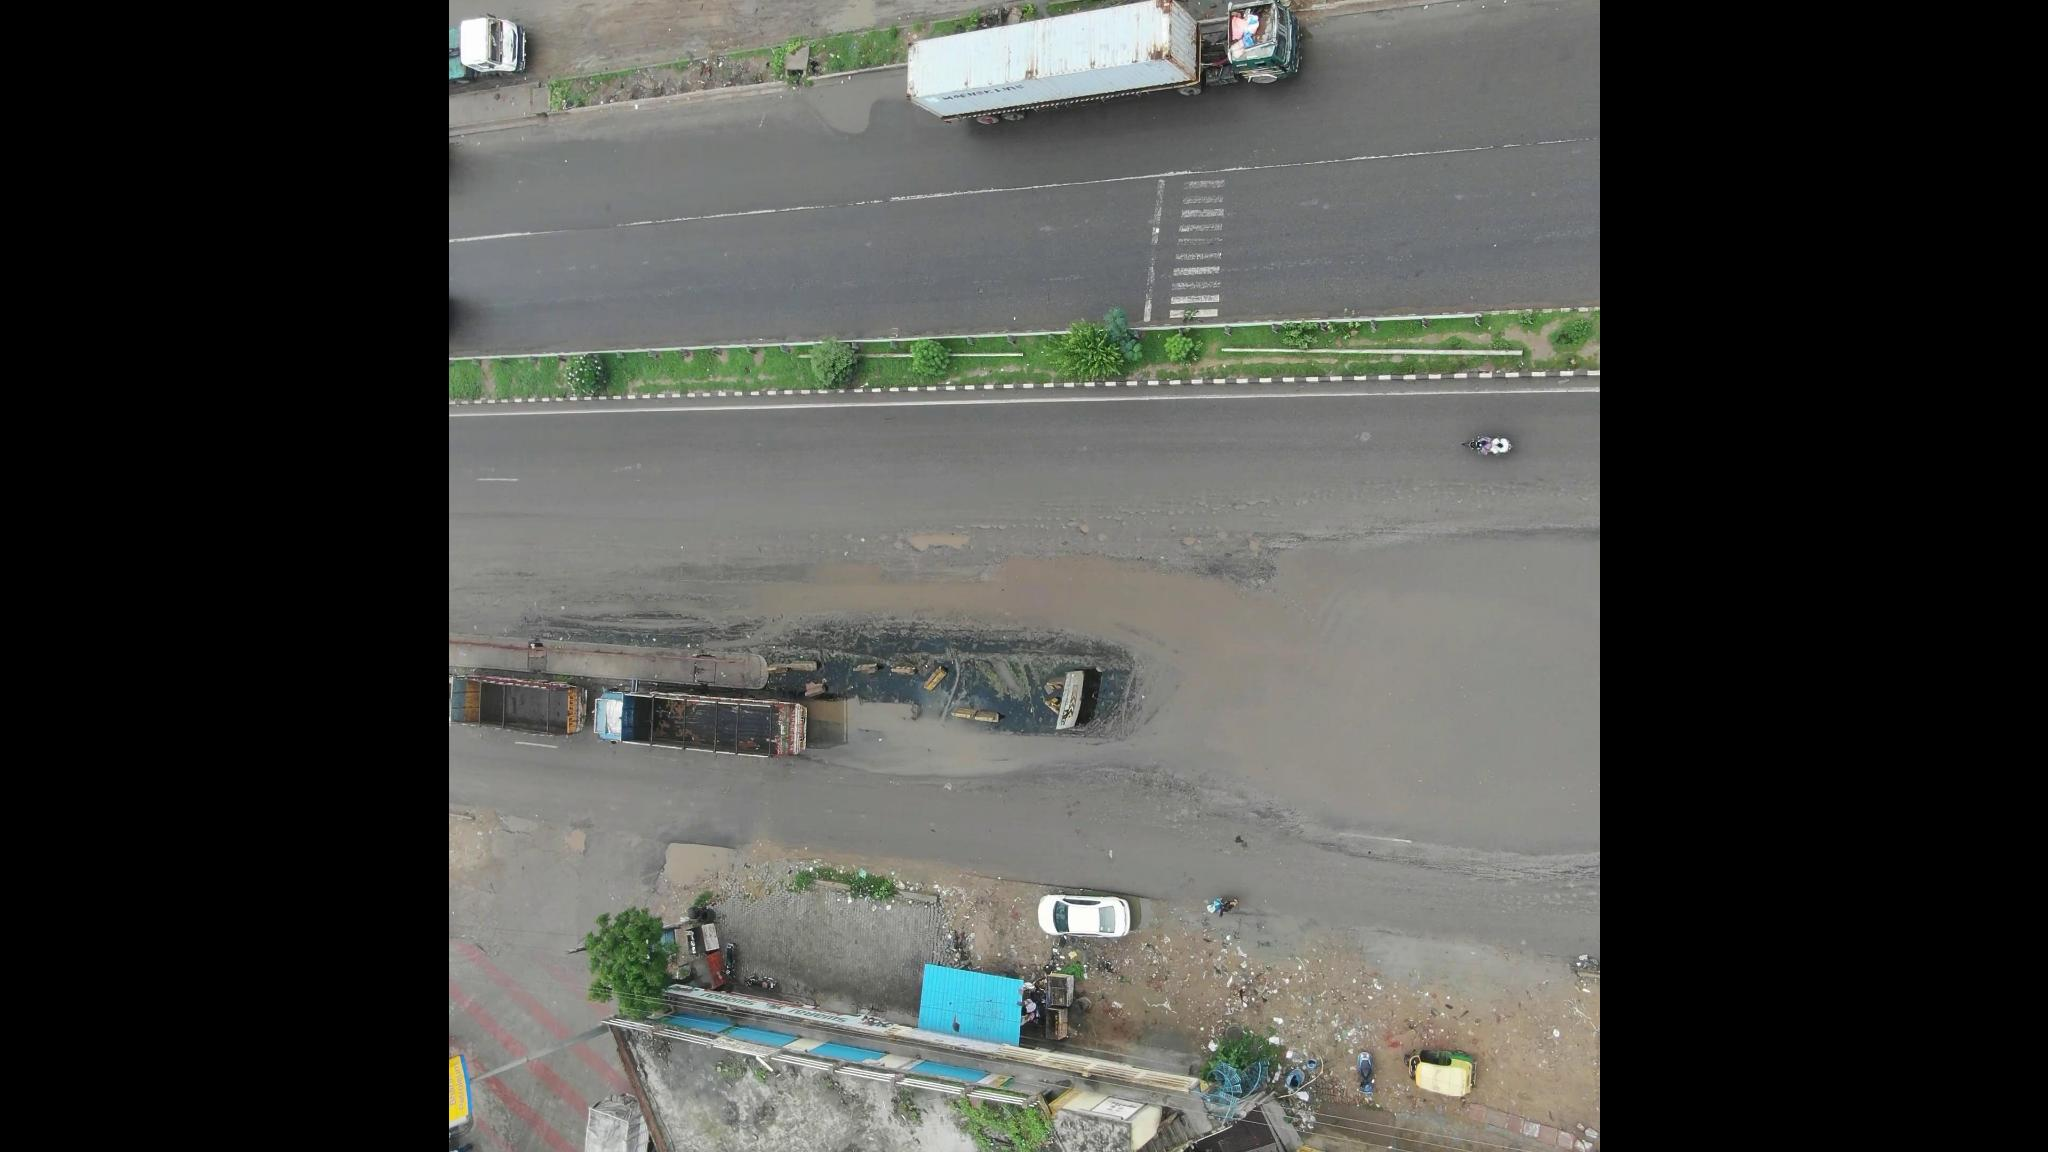Muddy_road: (518, 577, 783, 639), (627, 1, 845, 46)
Potholes: (1084, 475, 1300, 556), (820, 506, 1025, 572), (1381, 452, 1587, 505), (1421, 861, 1598, 914)
Waterlogging: (1084, 542, 1587, 859)
